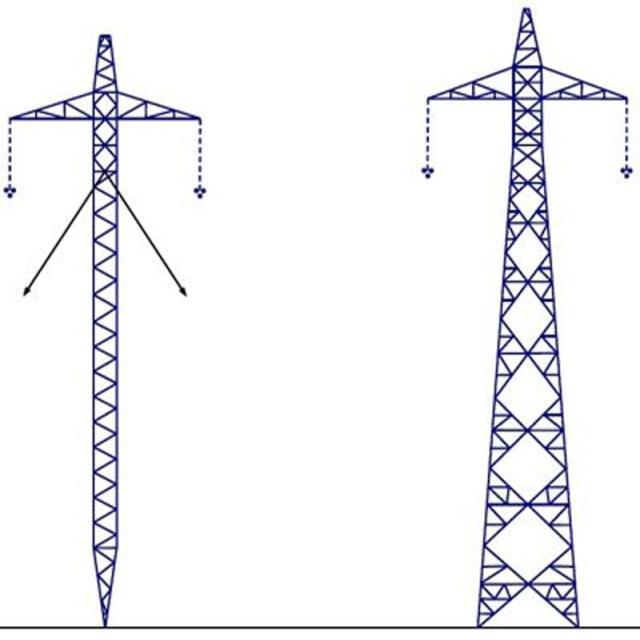non-critical vegetation: (29, 70, 210, 614), (450, 31, 610, 614)
